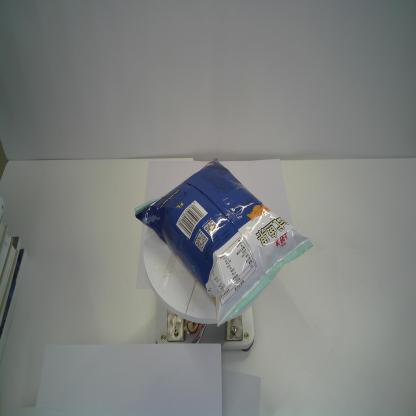Puffed Food: (134, 157, 314, 328)
